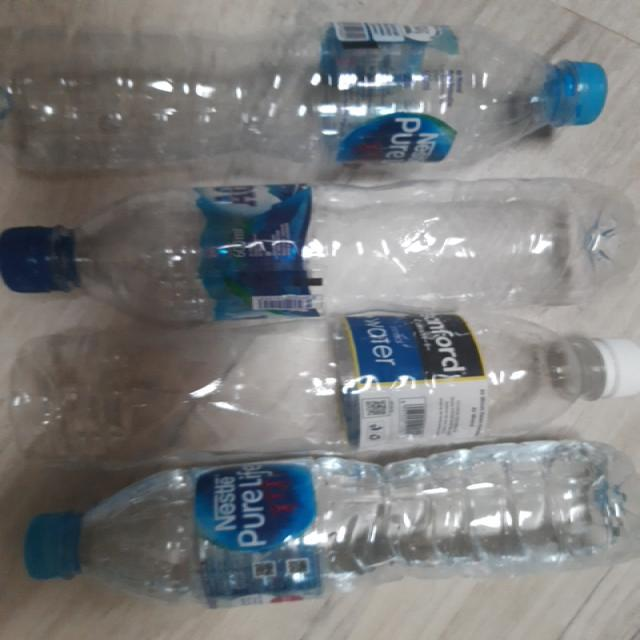PET Bottle: (6, 444, 640, 617), (0, 11, 628, 185), (0, 173, 640, 334), (2, 317, 640, 469)
